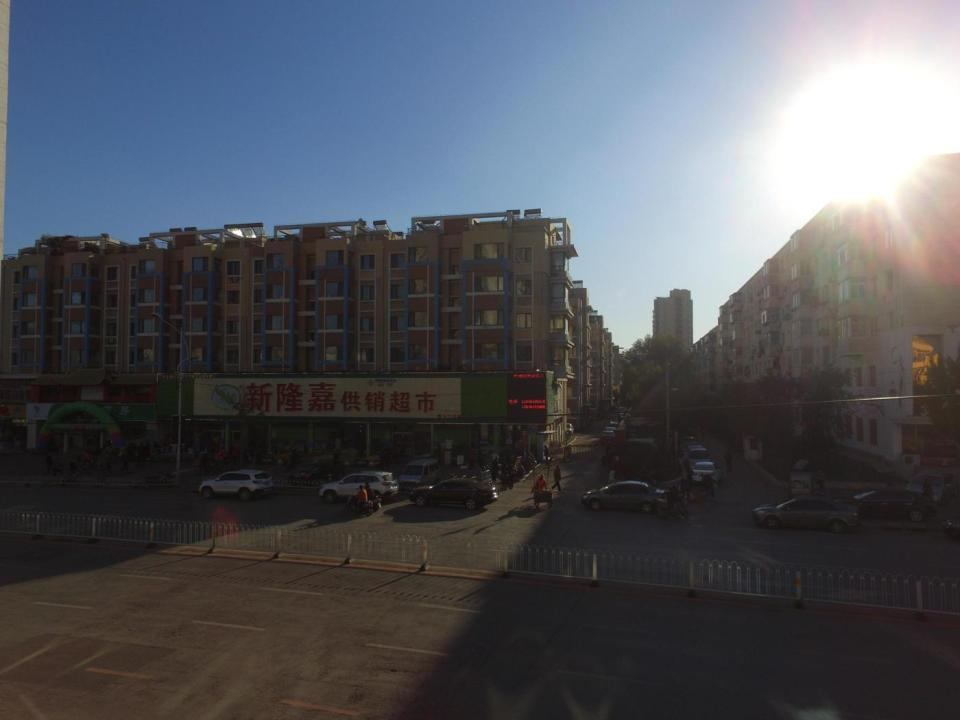car: (749, 493, 861, 534), (831, 485, 933, 522), (580, 480, 672, 512), (410, 477, 499, 510), (198, 467, 279, 501), (318, 470, 398, 502), (909, 468, 959, 508), (290, 461, 344, 488), (688, 461, 725, 485), (683, 444, 709, 475), (686, 447, 713, 475), (679, 433, 701, 458), (602, 424, 619, 446), (599, 430, 618, 445), (559, 422, 574, 437)
van: (398, 455, 441, 494)
